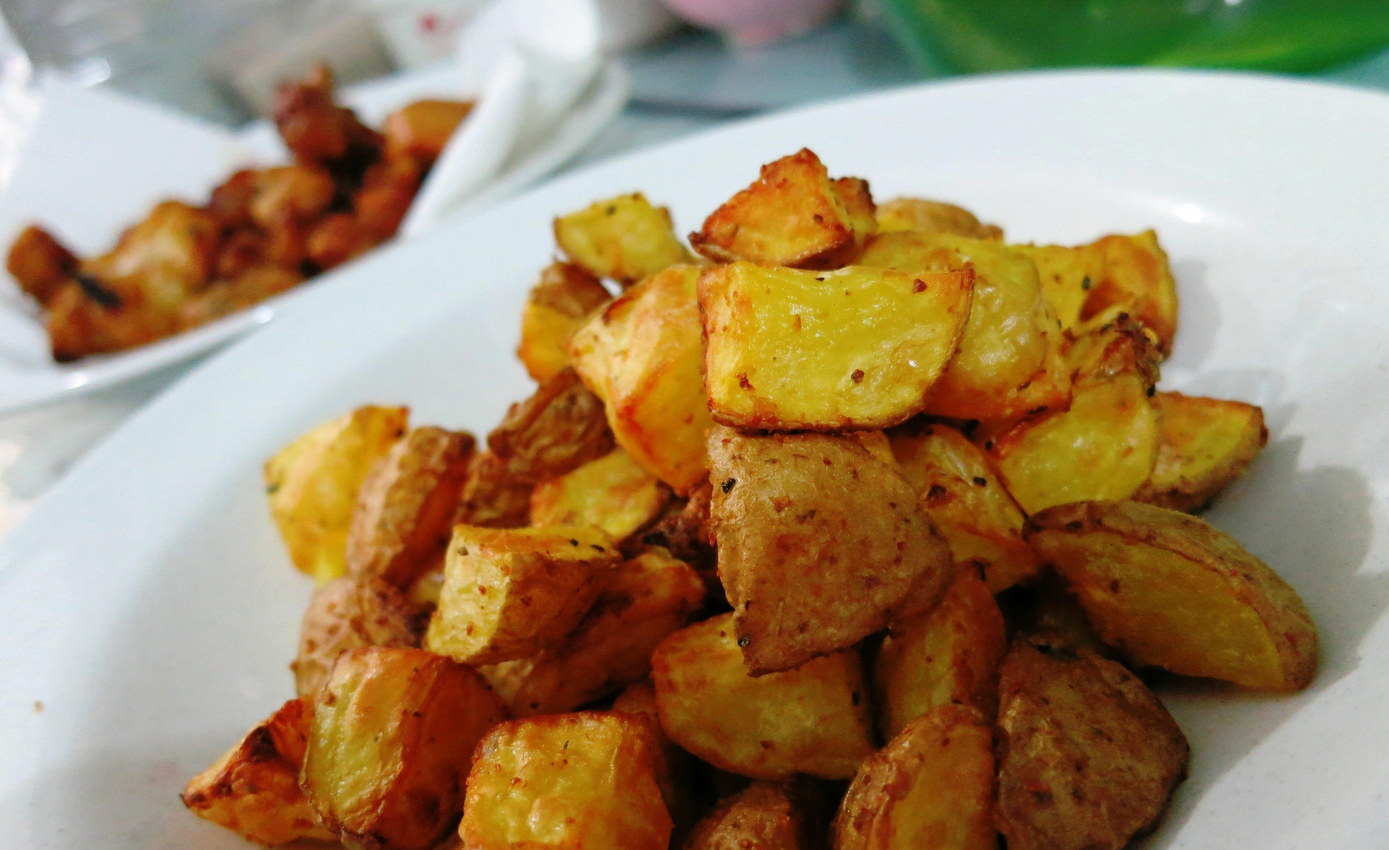AlooMasala: (181, 149, 1320, 850), (5, 68, 475, 362)
